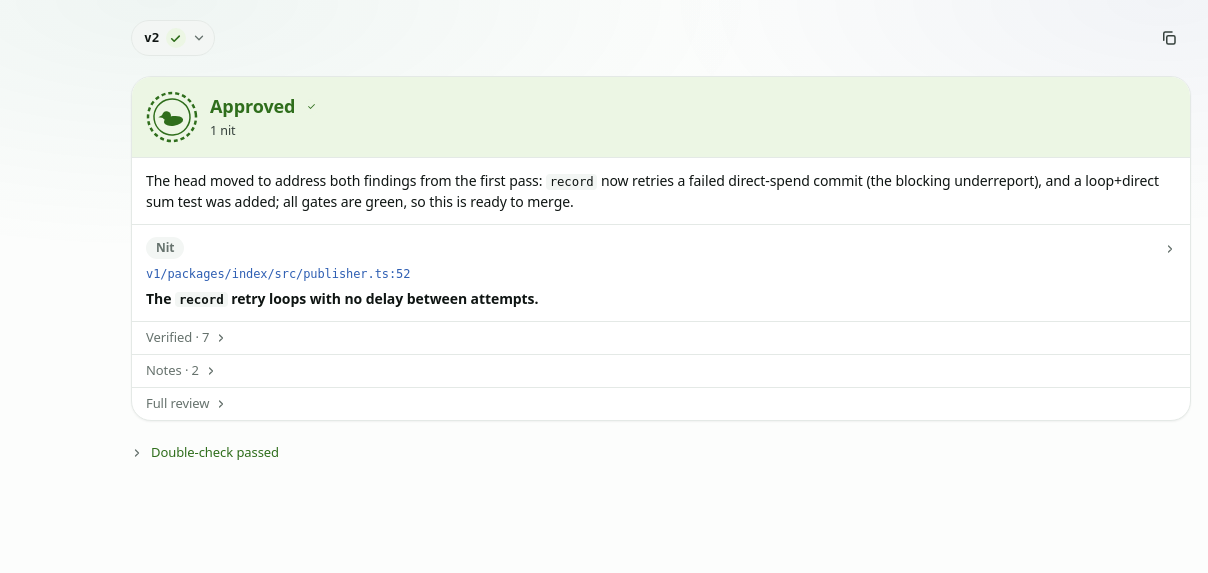
Test: an older version that cannot be loaded says so, and Retry reads it again
The width and height of the screenshot is (1208, 573).
Click the button named "Version: v2": (173, 38) top-left (131, 20), bottom-right (214, 56)
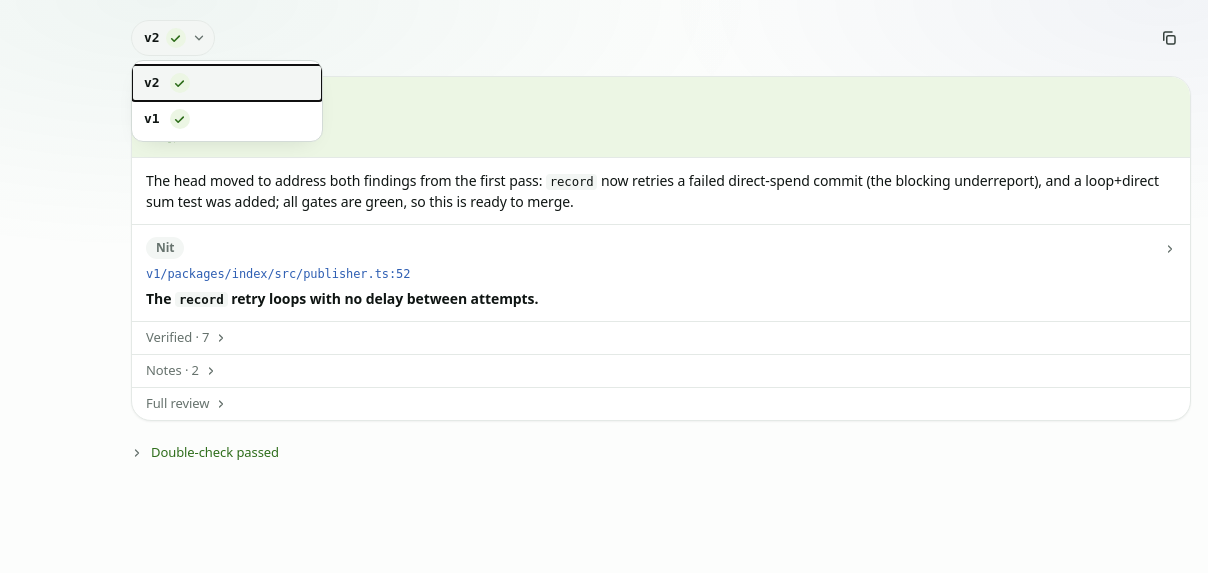
Click the menu item "v1": (227, 119) top-left (132, 101), bottom-right (322, 137)
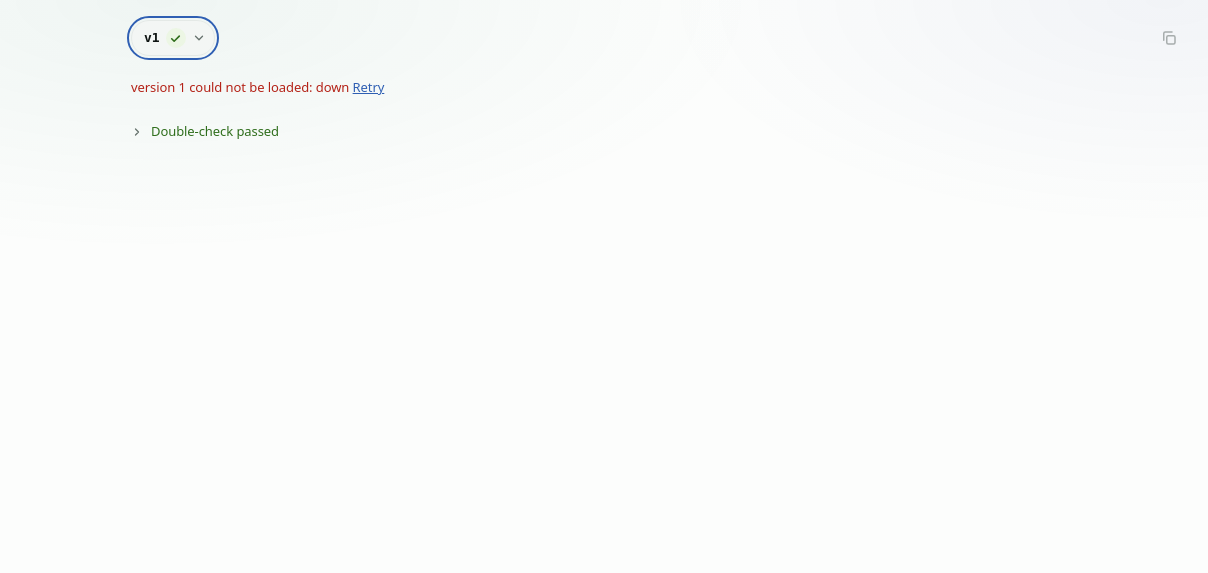
Now the message shows "version 1 could not be loaded: down", box top-left (131, 78), bottom-right (353, 96)
Click the button "Retry": (368, 88) top-left (353, 76), bottom-right (384, 100)
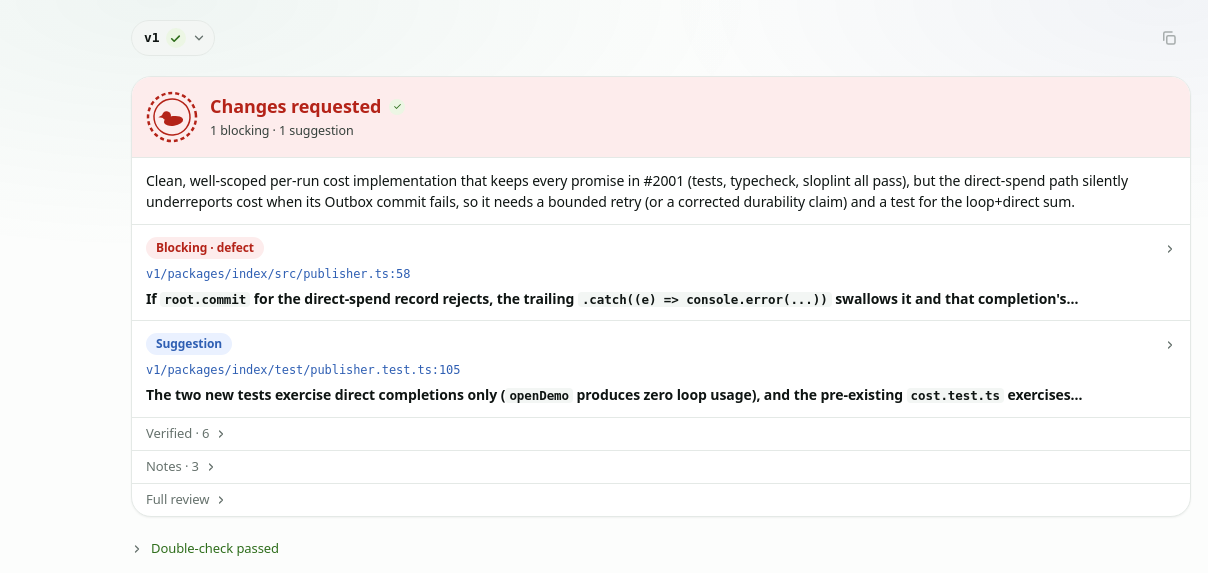
Now the element named "Review" shows "Changes requested", box top-left (210, 94), bottom-right (381, 118)
Now the message "version 1 could not be loaded: down Retry" is gone
